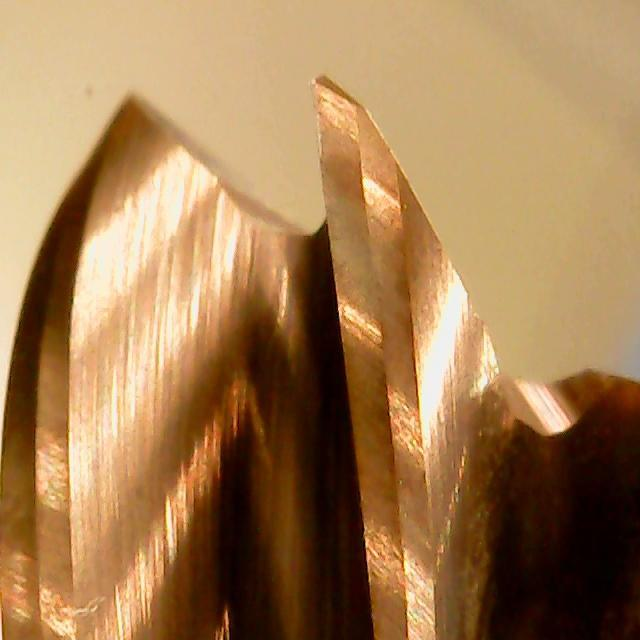Tool-wear-class-0: (303, 72, 416, 392)
